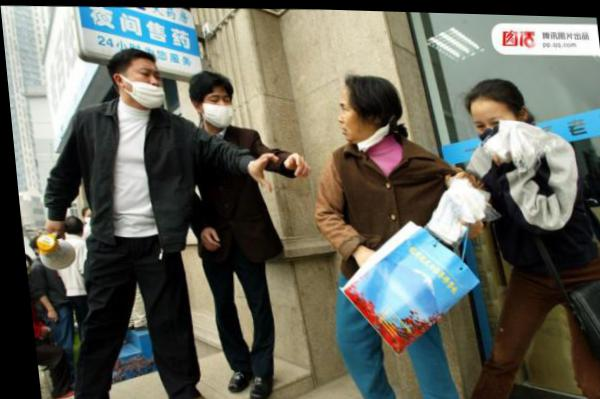NONE: (470, 107, 520, 152), (334, 96, 374, 141)
OK: (199, 90, 235, 124)
WRONG: (121, 64, 166, 107)
